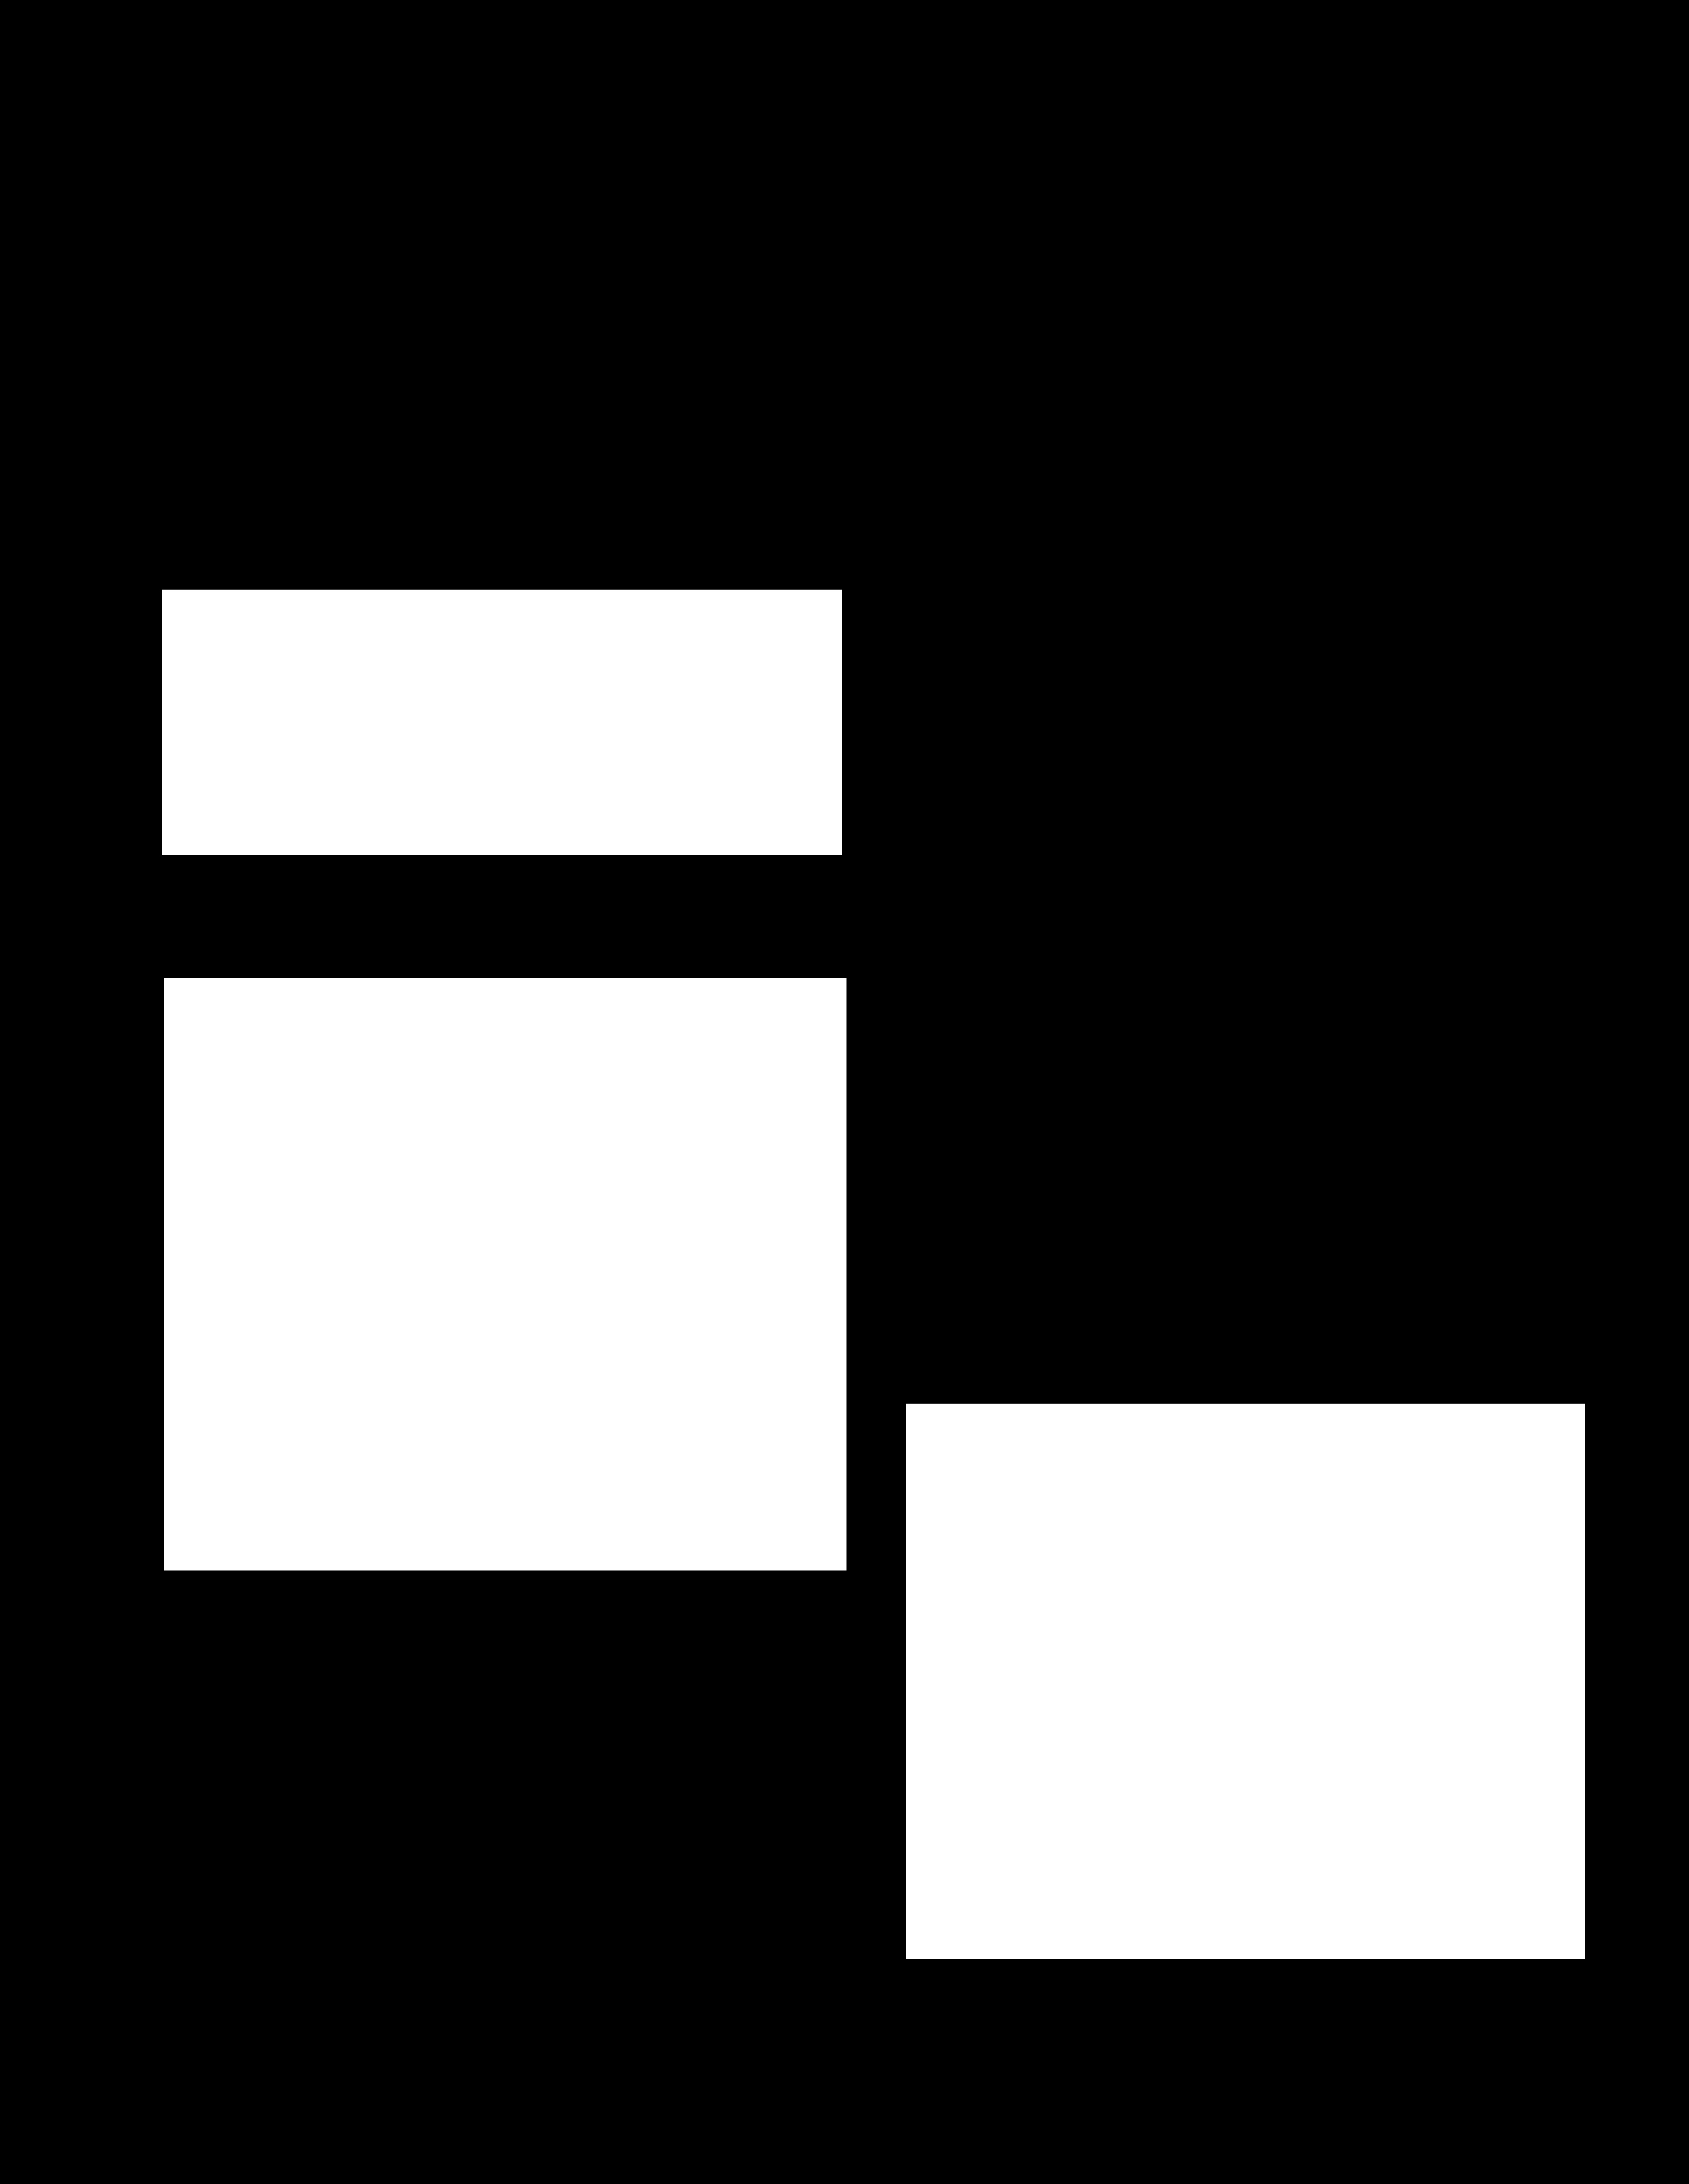table: (165, 979, 845, 1571), (906, 1404, 1584, 1959), (161, 590, 842, 854)
